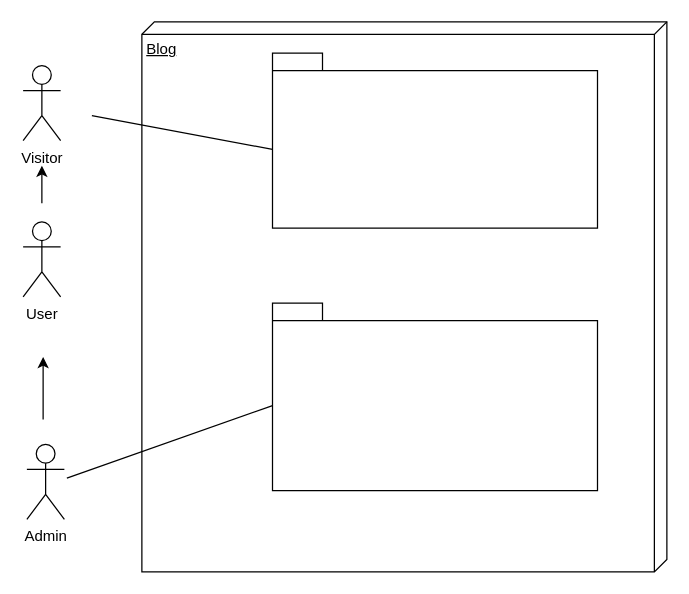
Some shapes in this 689 by 594 pixel diagram are drawn without their labels. The centre of each missing label's shape, as x and y in pixels:
"Backend" goes at (434,396).
"Frontend" goes at (434,140).
